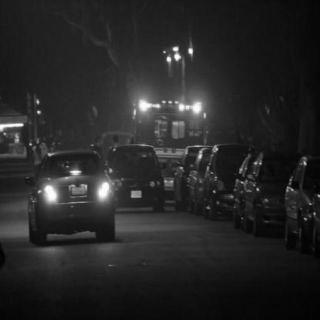other: (130, 95, 216, 118), (160, 41, 202, 68), (95, 170, 119, 206), (39, 178, 61, 208), (64, 162, 84, 180)
